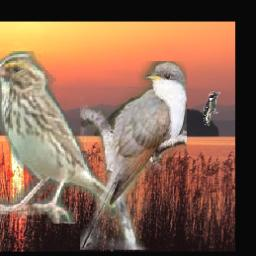Cuckoo: (80, 61, 187, 250)
Sparrow: (0, 51, 126, 224)
Woodpecker: (203, 92, 219, 126)
